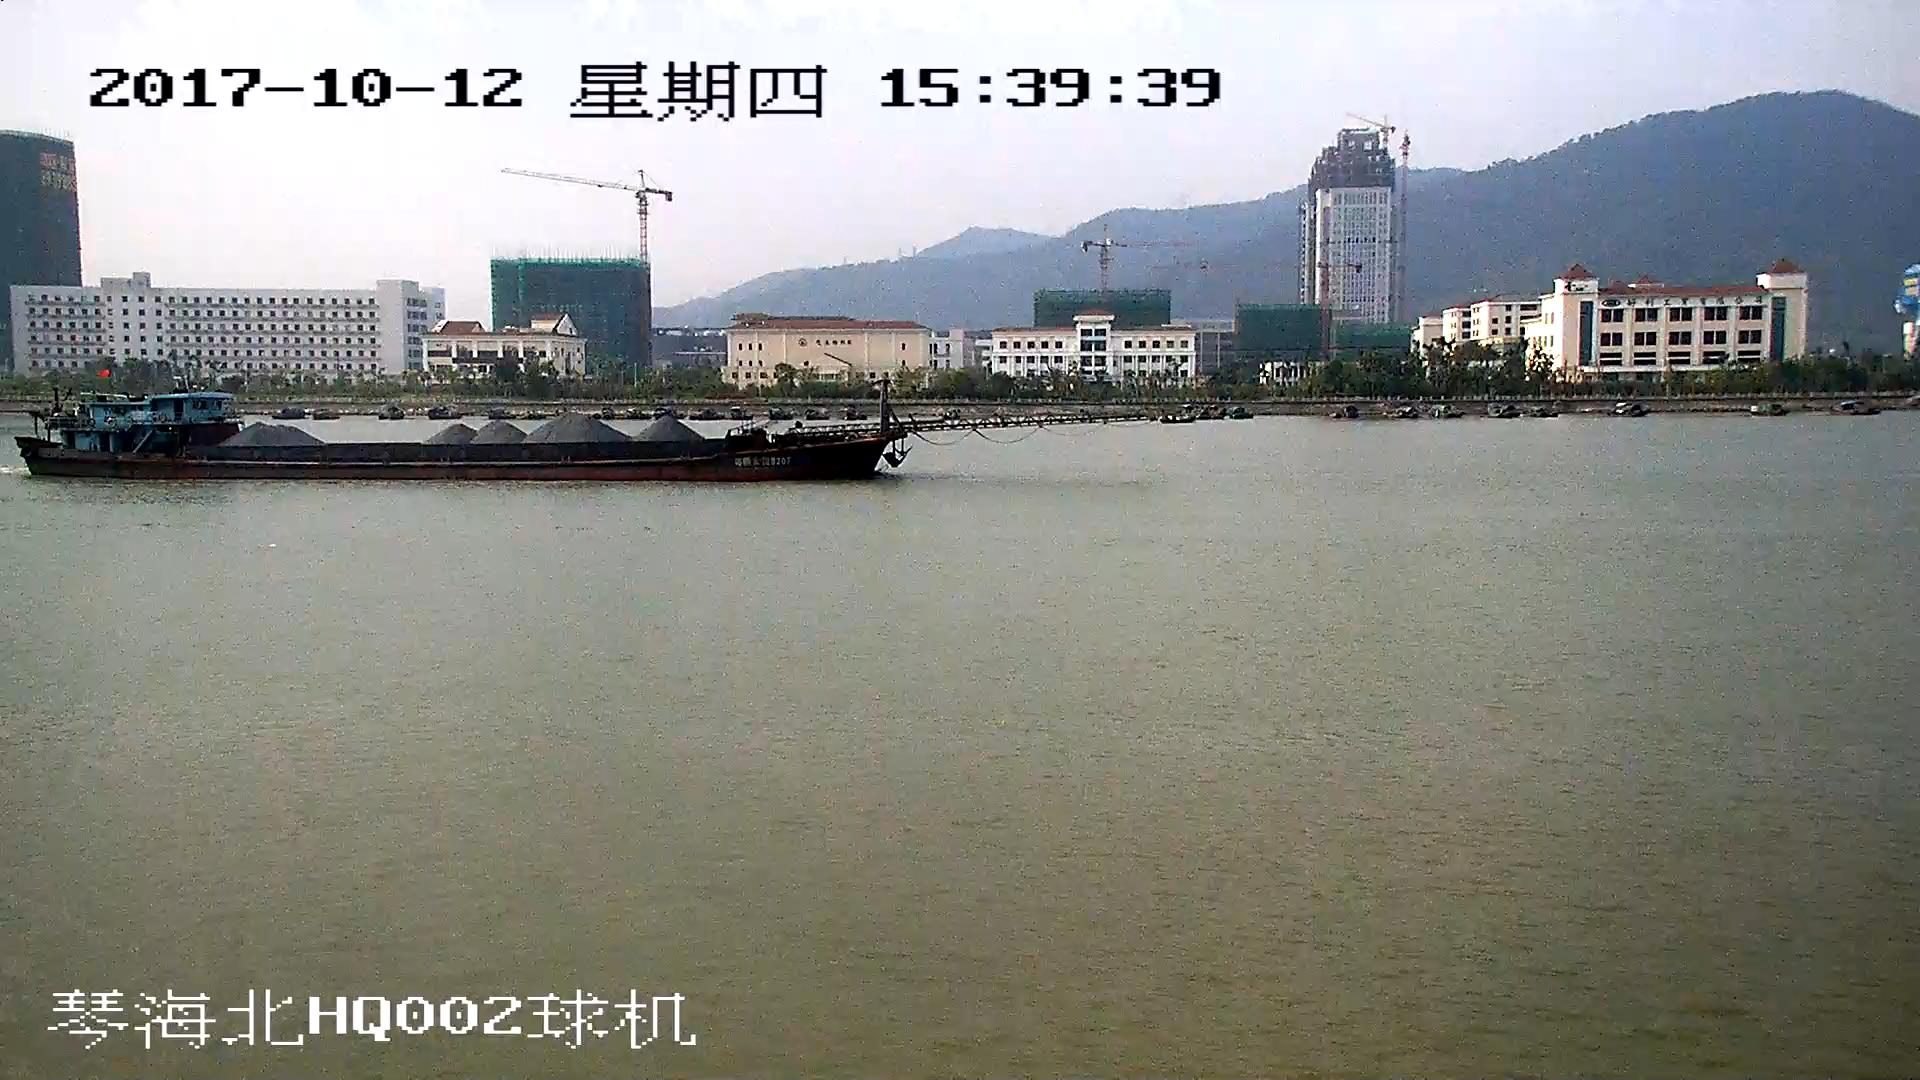ore carrier: (21, 369, 1120, 481)
